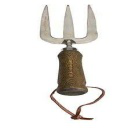Fork: (35, 2, 107, 125)
